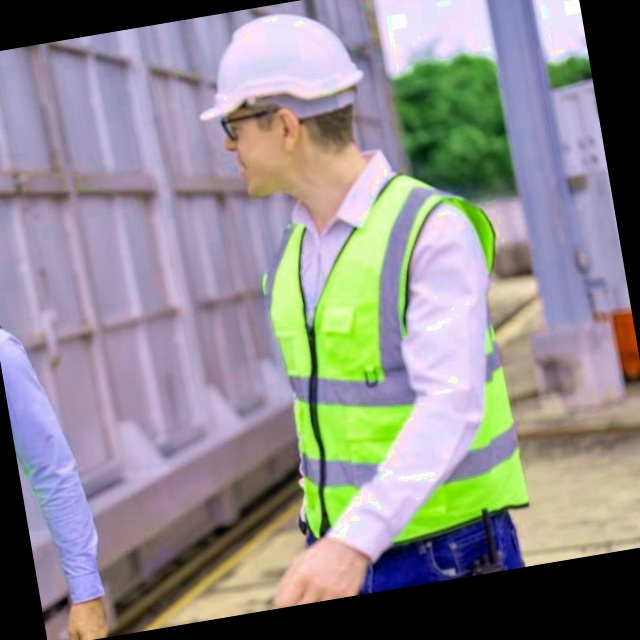Con_Casco: (184, 1, 378, 205)
Con_Chaleco: (246, 173, 532, 558)
